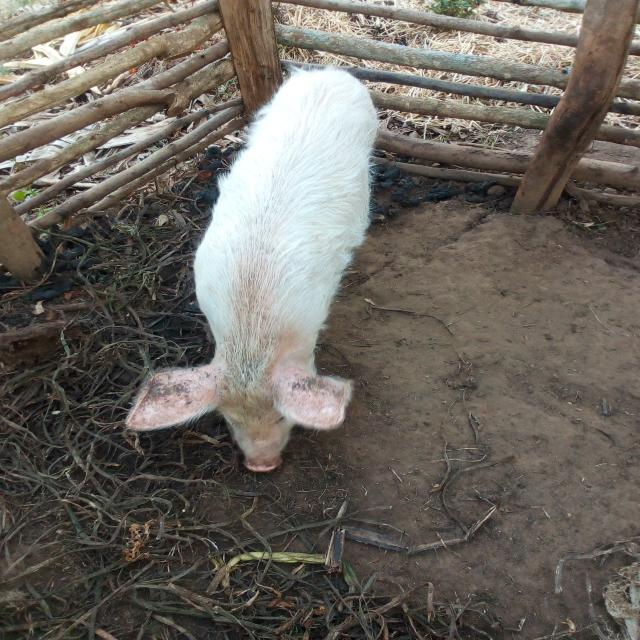pig: (70, 53, 483, 502)
